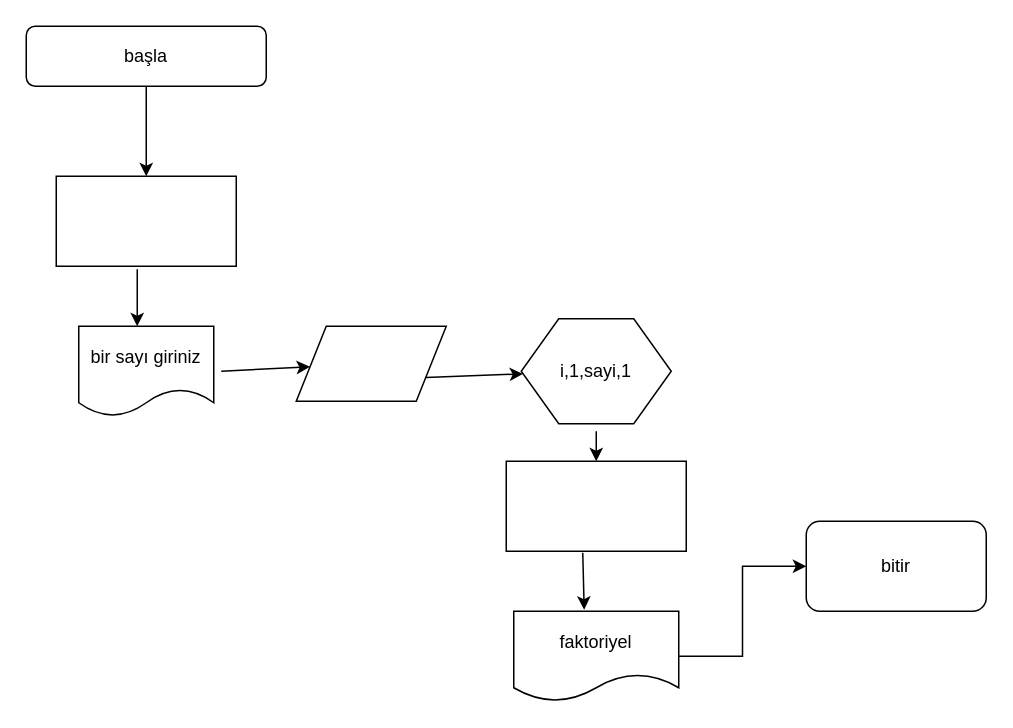
Some shapes in this 1013 by 728 pixel diagram are drawn without their labels. Each missing label, with the box of its shape:
faktoriyel = faktoriyel *sayi: (505, 460, 686, 551)
faktoriyel=1: (55, 175, 236, 266)
sayi: (295, 325, 446, 401)
